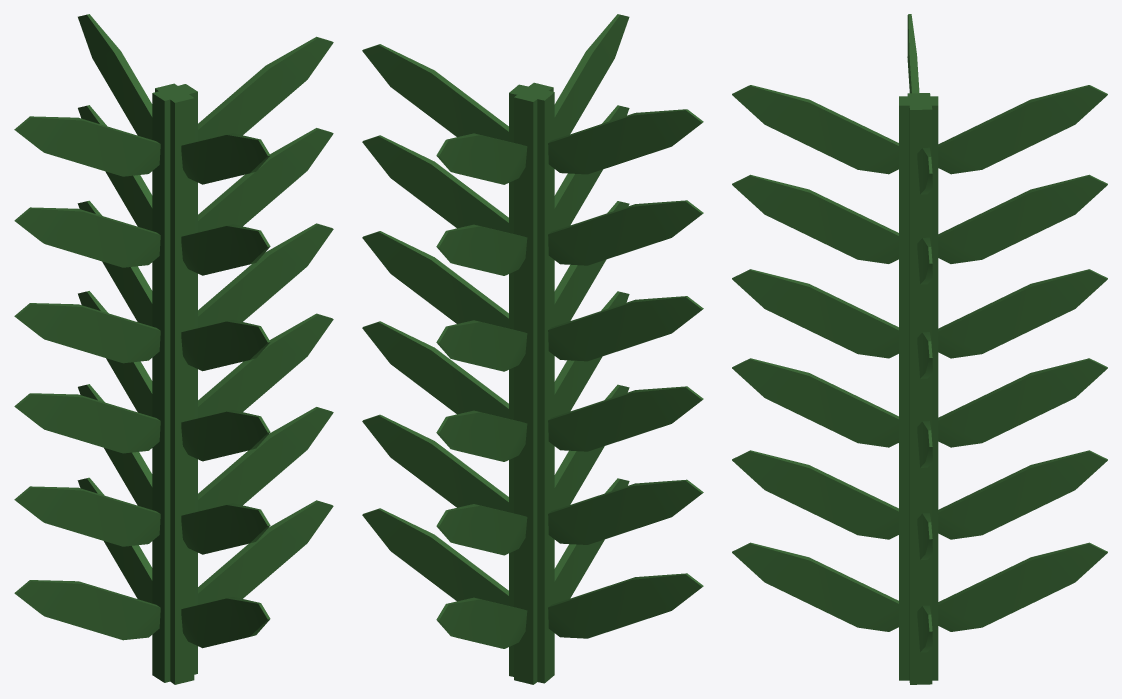
The model's file is SM_KelpPlaceHolder2_S.fbx.
3 views of the same model, side by side, from view 1: azimuth 30°, elevation 25°; view 2: azimuth 150°, elevation 25°; view 3: azimuth 270°, elevation 25° (orthographic).
Visible parts, largest first — view 1: pCube54; view 2: pCube54; view 3: pCube54.
Boxes of the visible parts, x1=… form: pCube54: x1=14, y1=14, x2=333, y2=684; pCube54: x1=362, y1=14, x2=703, y2=684; pCube54: x1=732, y1=14, x2=1107, y2=684.
Size of the model in its own units: 112 by 195 by 112.
